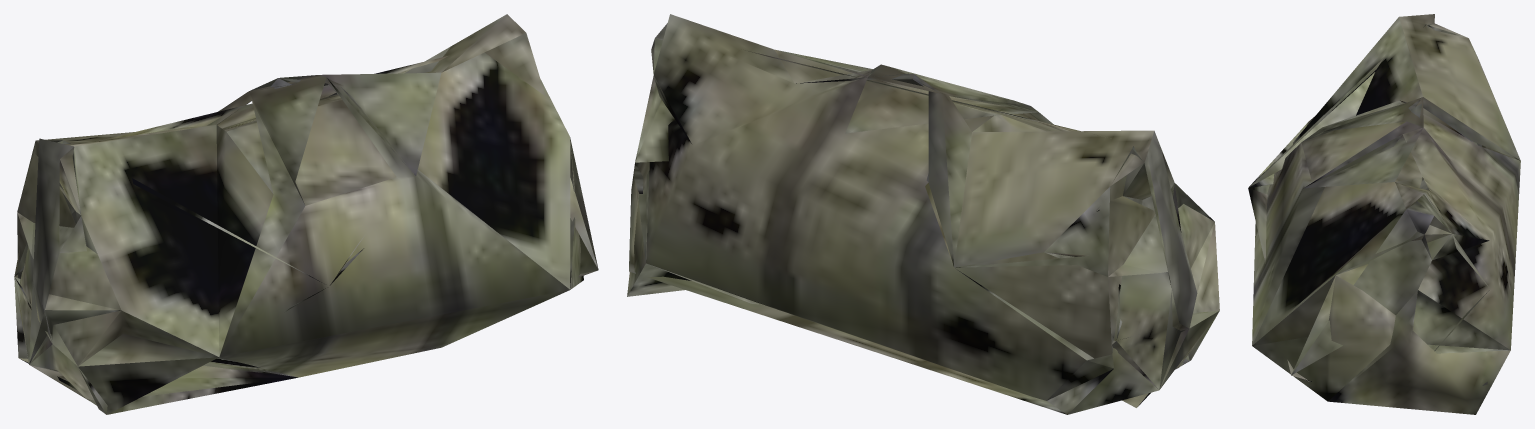
The model's file is sandbags_1131595002_lod1.glb.
3 views of the same model, side by side, from view 1: azimuth 30°, elevation 25°; view 2: azimuth 150°, elevation 25°; view 3: azimuth 270°, elevation 25° (orthographic). The views are drawn at different scales.
Bounding box in the file's own units: 2.6 × 1.29 × 1.37.
1 material, 1 textured.
